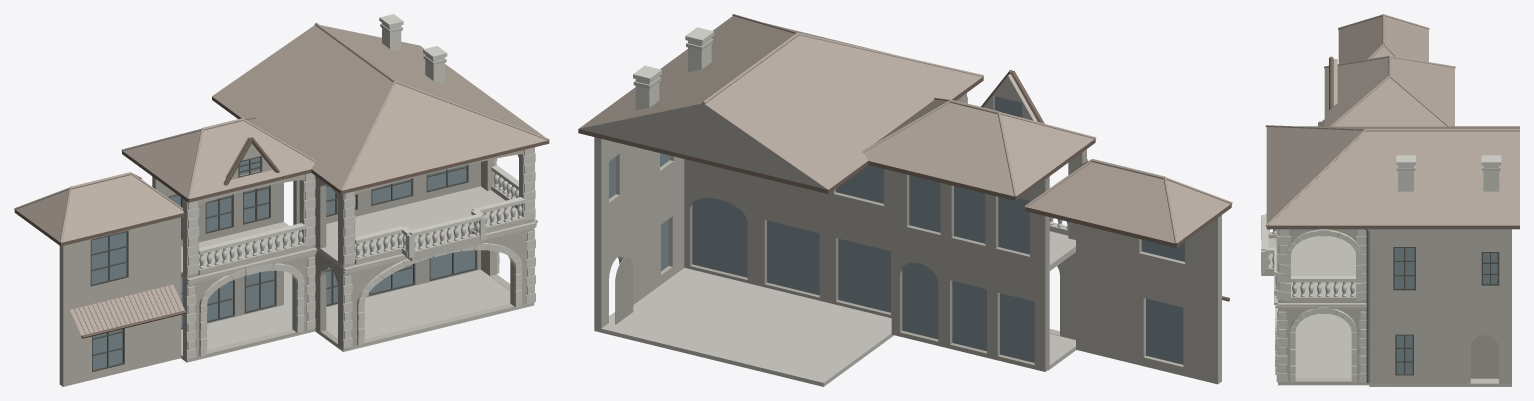
Rendered from xuhui-ailu-residence-garden-loggia-raw.glb.
3 views of the same model, side by side, from view 1: azimuth 30°, elevation 25°; view 2: azimuth 150°, elevation 25°; view 3: azimuth 270°, elevation 25° (orthographic). The views are drawn at different scales.
Visible parts, largest first — view 1: 东平路9号爱庐甲楼花园敞廊; view 2: 东平路9号爱庐甲楼花园敞廊; view 3: 东平路9号爱庐甲楼花园敞廊.
Boxes of the visible parts, x1,y1,x2,y2 form: 东平路9号爱庐甲楼花园敞廊: [14, 14, 549, 386]; 东平路9号爱庐甲楼花园敞廊: [578, 14, 1232, 386]; 东平路9号爱庐甲楼花园敞廊: [1261, 14, 1519, 386].
Size of the model in its own units: 24.33 by 11.14 by 12.28.
